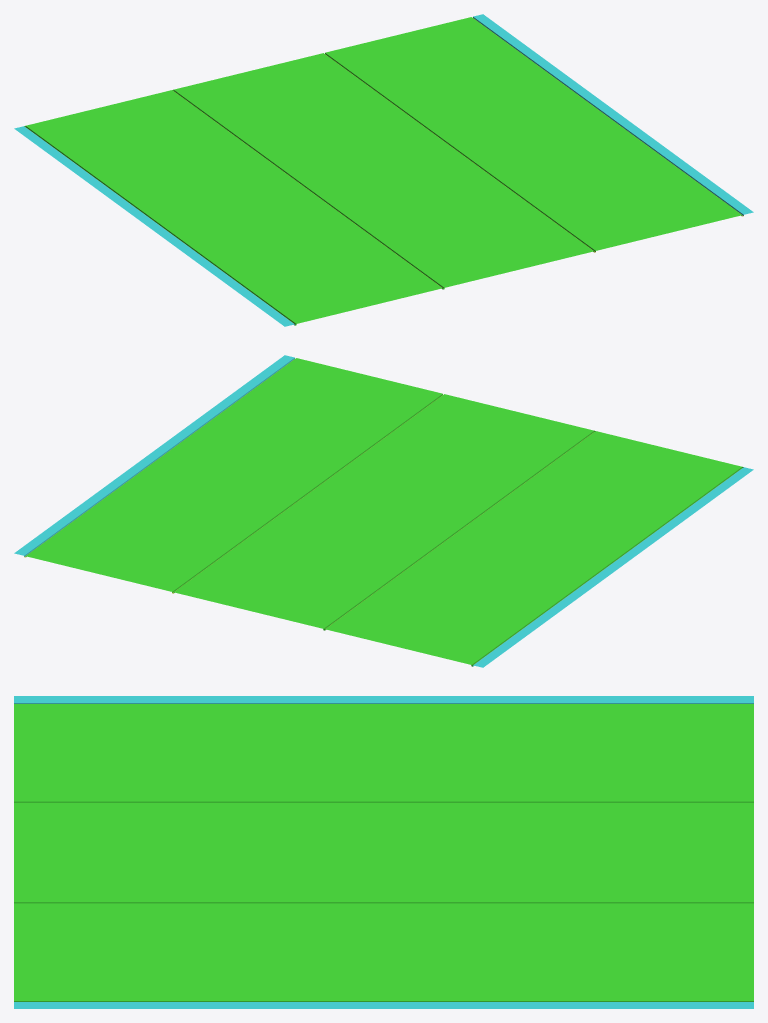
The model's file is Floor_15_Middle.fbx.
3 renders of one model, top to bottom at view 1: azimuth 30°, elevation 25°; view 2: azimuth 150°, elevation 25°; view 3: azimuth 270°, elevation 25°, orthographic. The views are drawn at different scales.
Parts seen in each view (by area): view 1: Floor_15_Middle; view 2: Floor_15_Middle; view 3: Floor_15_Middle.
Part boxes in pixels (x1,y1,x2,y2): Floor_15_Middle: (14,14,753,326); Floor_15_Middle: (14,355,753,667); Floor_15_Middle: (14,696,753,1008).
Bounding box in the file's own units: 457 × 1.27 × 457.
